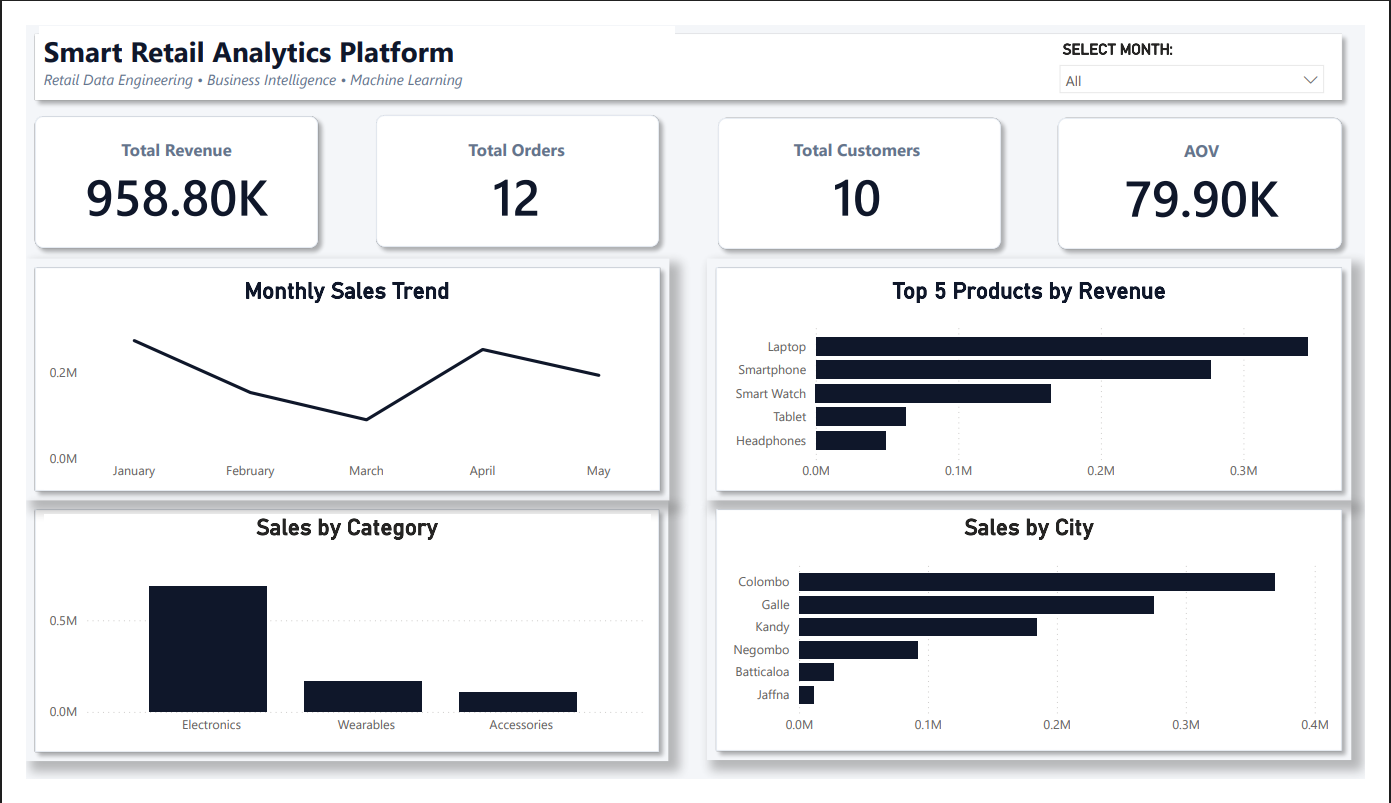

Layout of this report page (visuals, bound fields, positions):
{"tool":"powerbi","page":{"name":"Smart Retail Analytics Dashboard","canvas":[1280,720],"ordinal":0},"visuals":[{"type":"shape","box":[651.5,223.2,615.3,230.4],"z":0},{"type":"shape","box":[651.5,453.6,615.3,248.5],"z":1000},{"type":"shape","box":[0,453.6,614.1,249.7],"z":2000},{"type":"shape","box":[0,223.2,615.3,230.4],"z":3000},{"type":"shape","box":[978.4,79.6,288.3,143.6],"z":4000},{"type":"shape","box":[652.7,79.6,288.3,143.6],"z":5000},{"type":"shape","box":[325.7,77.2,288.3,143.6],"z":6000},{"type":"shape","box":[0,78.4,288.3,143.6],"z":7000},{"type":"cardVisual","title":"Total Revenue","fields":{"Data":["Sum(public fact_sales.sales_amount)"]},"box":[12.1,94.1,264.2,113.4],"z":8000},{"type":"cardVisual","title":"Total Revenue","fields":{"Data":["CountNonNull(public fact_sales.sale_id)"]},"box":[341.4,94.1,257,113.4],"z":9000},{"type":"cardVisual","title":"Total Revenue","fields":{"Data":["CountNonNull(public dim_customers.customer_id)"]},"box":[667.2,94.1,255.8,113.4],"z":10000},{"type":"cardVisual","title":"Total Revenue","fields":{"Data":["public fact_sales.Average Order Value1"]},"box":[996.5,95.3,254.6,113.4],"z":11000},{"type":"lineChart","title":"Monthly Sales Trend ","fields":{"Y":["Sum(public fact_sales.sales_amount)"],"Category":["public dim_date.month_name"]},"box":[16.9,241.3,580.3,202.7],"z":12000},{"type":"clusteredColumnChart","title":"Sales by Category","fields":{"Category":["public dim_products.category"],"Y":["Sum(public fact_sales.sales_amount)"]},"box":[16.9,466.9,580.3,219.6],"z":13000},{"type":"clusteredBarChart","title":"Top 5 Products by Revenue","fields":{"Category":["public dim_products.product_name"],"Y":["Sum(public fact_sales.sales_amount)"]},"box":[667.2,241.3,583.9,202.7],"z":14000},{"type":"clusteredBarChart","title":"Sales by City","fields":{"Category":["public dim_customers.city"],"Y":["Sum(public fact_sales.sales_amount)"]},"box":[667.2,466.9,583.9,219.6],"z":15000},{"type":"shape","box":[0,0,1266.8,79.6],"z":16000},{"type":"slicer","fields":{"Values":["public dim_date.month_name"]},"box":[978.4,9.7,272.7,60.3],"z":18000},{"type":"textbox","box":[12.1,1.2,608,68.8],"z":18001}]}

Visuals, with their boxes in screenshot pixels (x1, y1, x2, y2), scaled from the page's 1280x720 canvas onto the 1391x803 screenshot:
shape: box=[708, 249, 1377, 506]
shape: box=[708, 506, 1377, 783]
shape: box=[0, 506, 667, 784]
shape: box=[0, 249, 669, 506]
shape: box=[1063, 89, 1377, 249]
shape: box=[709, 89, 1023, 249]
shape: box=[354, 86, 667, 246]
shape: box=[0, 87, 313, 248]
"Total Revenue" cardVisual: box=[13, 105, 300, 231]
"Total Revenue" cardVisual: box=[371, 105, 650, 231]
"Total Revenue" cardVisual: box=[725, 105, 1003, 231]
"Total Revenue" cardVisual: box=[1083, 106, 1360, 233]
"Monthly Sales Trend " lineChart: box=[18, 269, 649, 495]
"Sales by Category" clusteredColumnChart: box=[18, 521, 649, 766]
"Top 5 Products by Revenue" clusteredBarChart: box=[725, 269, 1360, 495]
"Sales by City" clusteredBarChart: box=[725, 521, 1360, 766]
shape: box=[0, 0, 1377, 89]
slicer - public dim_date.month_name: box=[1063, 11, 1360, 78]
textbox: box=[13, 1, 674, 78]
